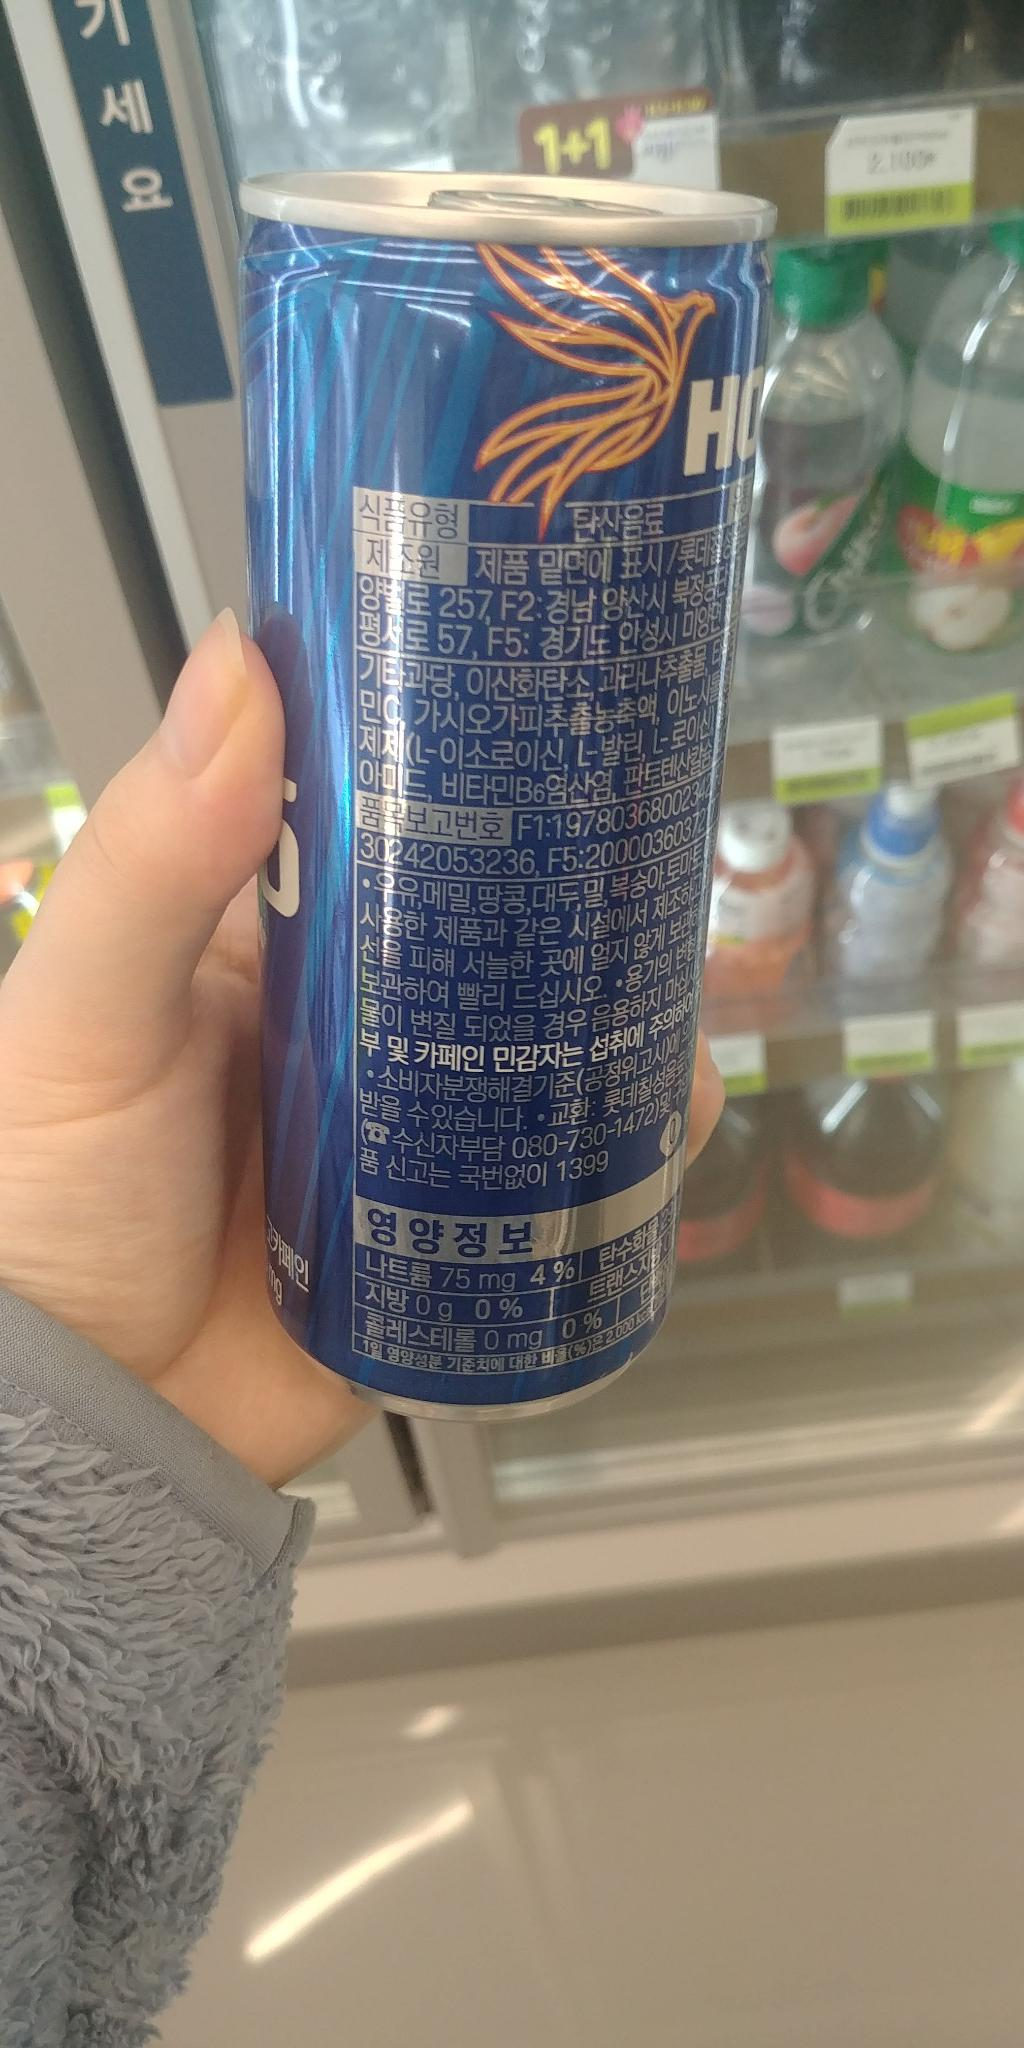hotsix_org: (225, 137, 716, 1412)
